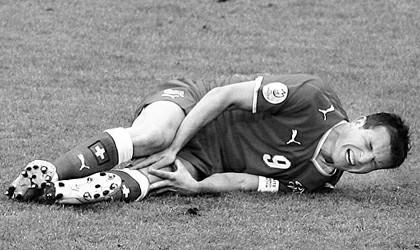falling: (5, 57, 410, 216)
